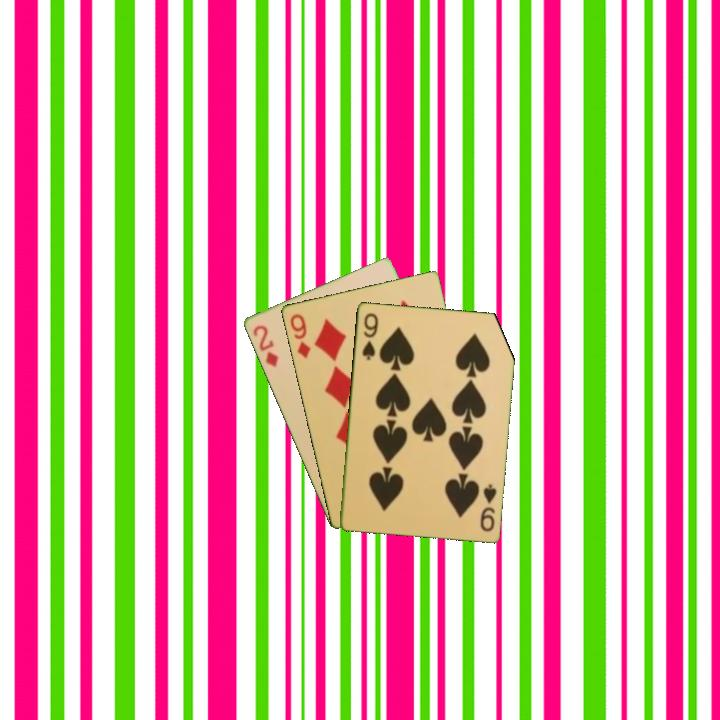2d: (249, 321, 281, 369)
9d: (286, 310, 313, 361)
9s: (476, 480, 499, 534), (358, 309, 381, 362)
